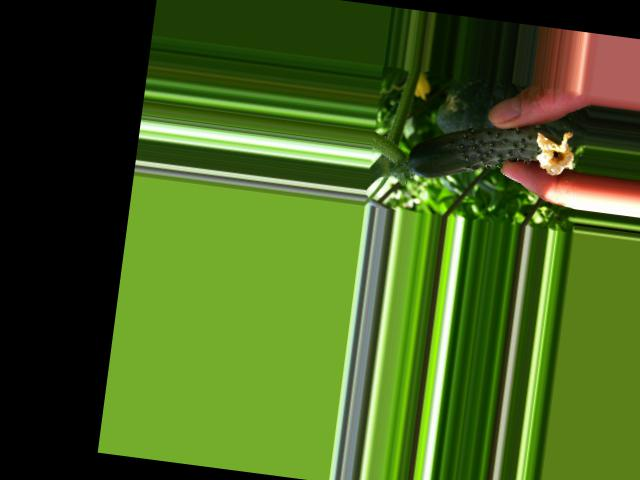cucumber: (405, 111, 577, 195)
